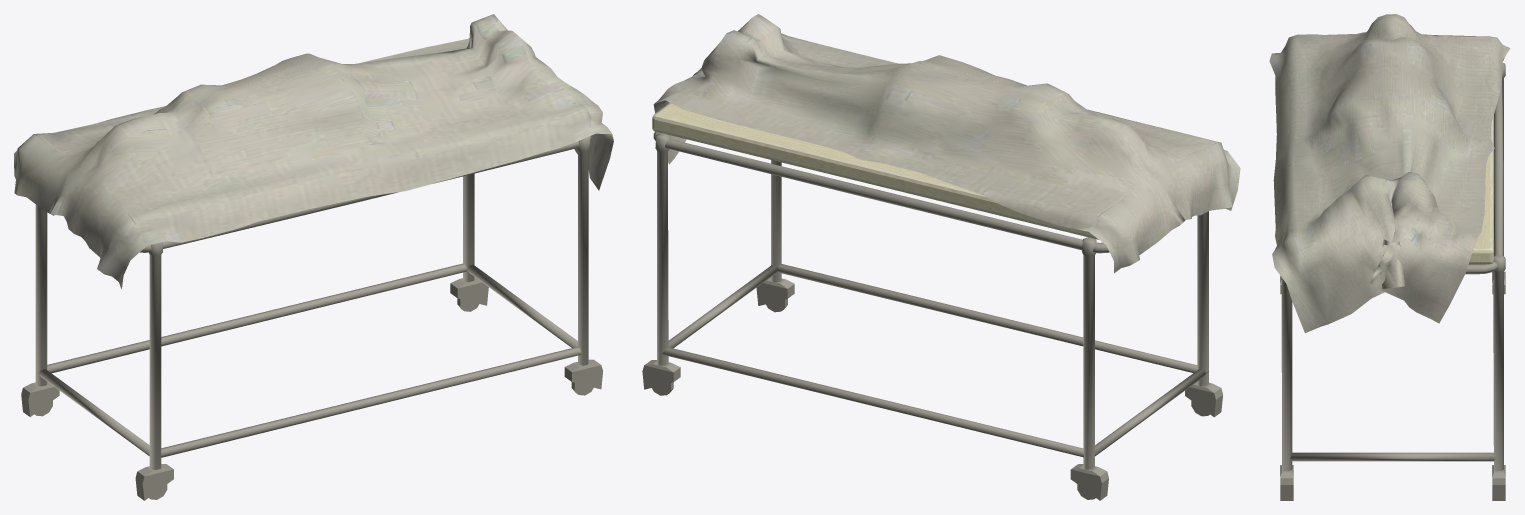
File: hosp-stretcher.lod0.glb
The picture shows the model from 3 angles, left to right: view 1: azimuth 30°, elevation 25°; view 2: azimuth 150°, elevation 25°; view 3: azimuth 270°, elevation 25°; orthographic projection. The views are drawn at different scales.
Parts seen in each view (by area): view 1: Maca_Colchao_0, Maca_MetalEscuro_0; view 2: Maca_Colchao_0, Maca_MetalEscuro_0; view 3: Maca_Colchao_0, Maca_MetalEscuro_0.
Boxes of the visible parts, left/top/right/bottom form: Maca_Colchao_0: left=14, top=14, right=613, bottom=289; Maca_MetalEscuro_0: left=21, top=136, right=602, bottom=500; Maca_Colchao_0: left=652, top=14, right=1240, bottom=273; Maca_MetalEscuro_0: left=642, top=131, right=1222, bottom=500; Maca_Colchao_0: left=1269, top=14, right=1510, bottom=333; Maca_MetalEscuro_0: left=1280, top=63, right=1505, bottom=500.
Size of the model in its own units: 2.15 by 1.37 by 0.9531.
Materials: 2 (1 with a texture image).
